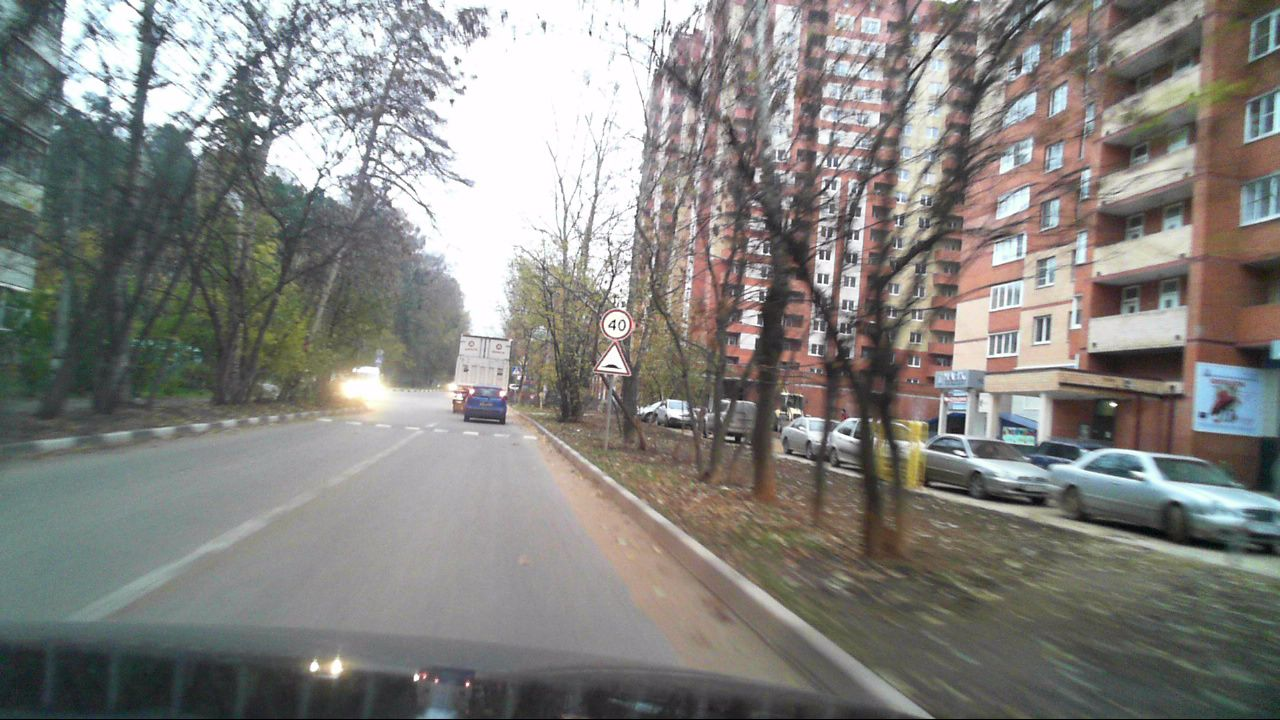speed_warning_40: (600, 310, 633, 341)
